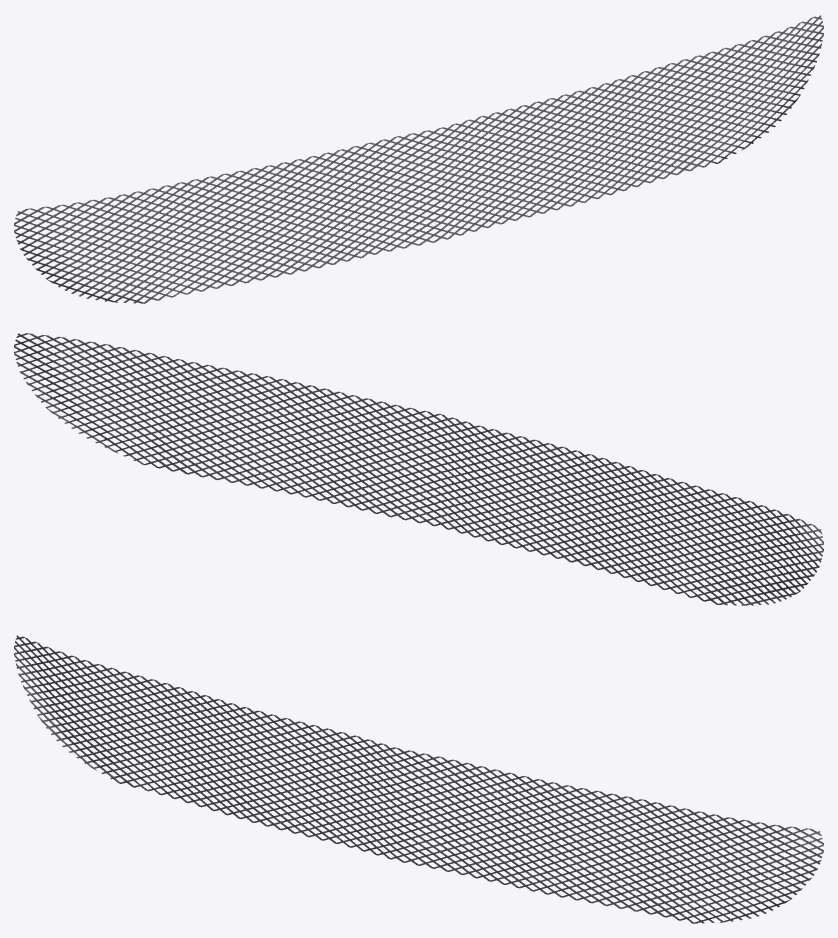
File: ZG02_zunsport_grille_stainless.glb
The picture shows the model from 3 angles, top to bottom: view 1: azimuth 30°, elevation 25°; view 2: azimuth 150°, elevation 25°; view 3: azimuth 330°, elevation 25°; orthographic projection.
Visible parts, largest first — view 1: MOD_NB_ZG02_mouth; view 2: MOD_NB_ZG02_mouth; view 3: MOD_NB_ZG02_mouth.
Boxes of the visible parts, left/top/right/bottom form: MOD_NB_ZG02_mouth: left=14, top=15, right=823, bottom=303; MOD_NB_ZG02_mouth: left=14, top=333, right=823, bottom=605; MOD_NB_ZG02_mouth: left=14, top=635, right=823, bottom=923.
Size of the model in its own units: 0.8098 by 0.108 by 0.0396.
1 material, 1 textured.
